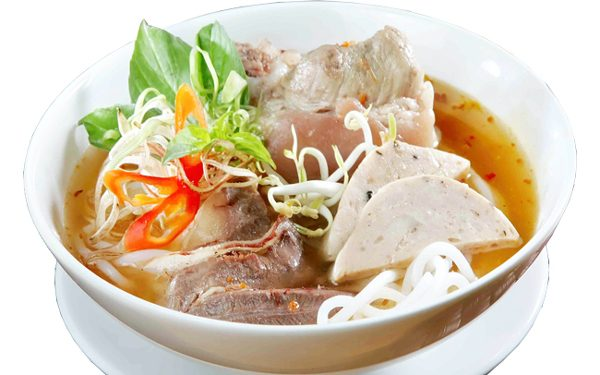beef: (165, 263, 328, 324)
chamoc: (325, 158, 511, 280)
chilli: (111, 161, 201, 244)
pork: (256, 26, 436, 169)
vegetable: (130, 60, 243, 151)
